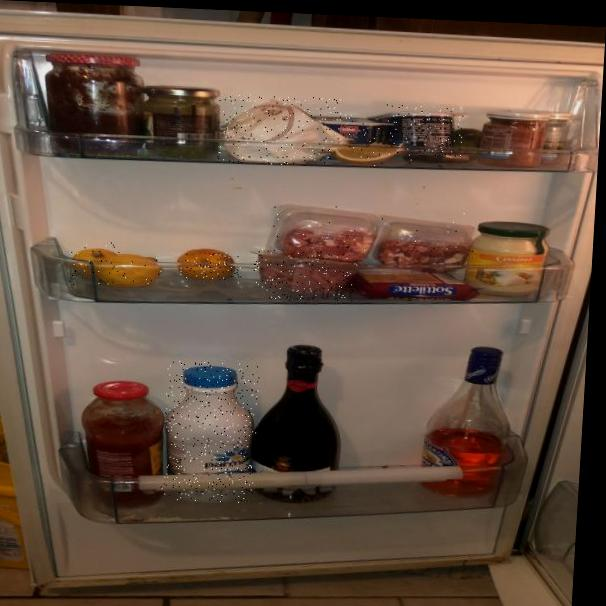bacon: (264, 200, 477, 270), (252, 249, 357, 303)
butter: (216, 93, 343, 168)
lemon: (68, 241, 125, 287), (98, 254, 164, 289), (330, 144, 414, 168), (181, 251, 244, 281)
milk: (160, 359, 261, 504)
yoghurt: (381, 104, 465, 157), (303, 111, 393, 148)
